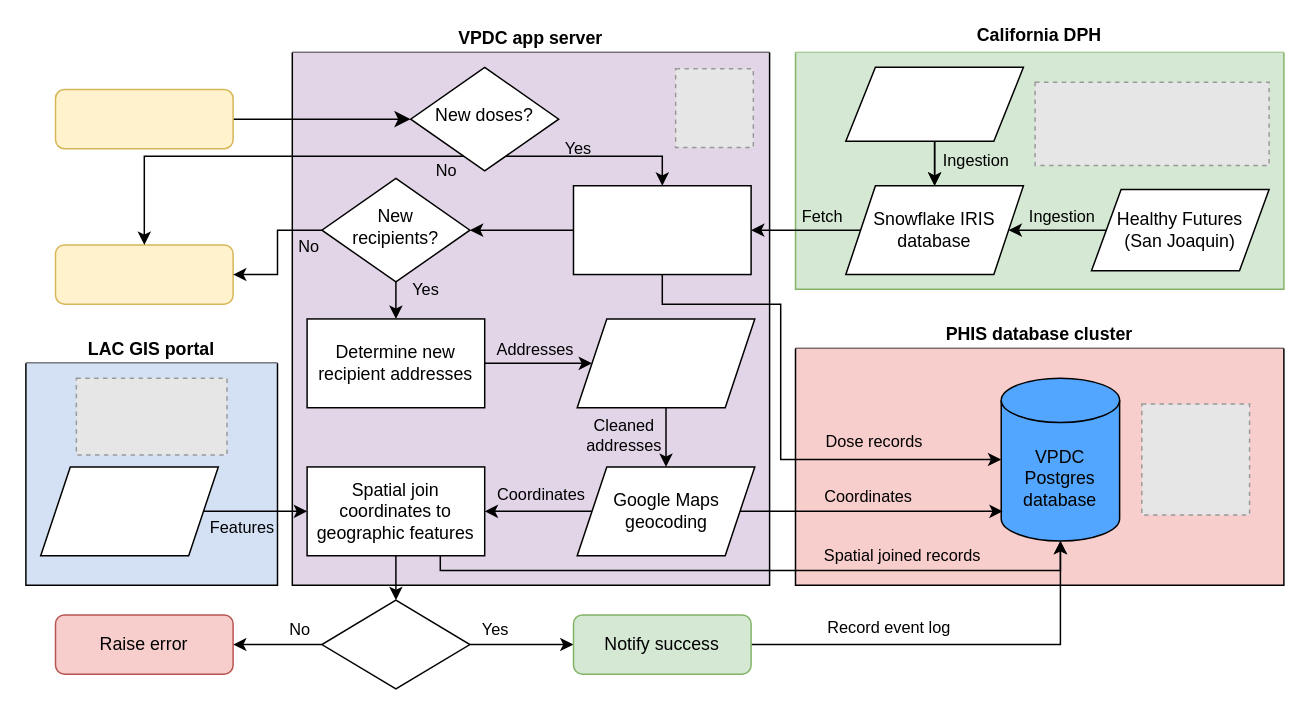
Some shapes in this 1310 by 715 pixel diagram are drawn without their labels. Grey dashed boxes stand in for pictures. Each missing label, with the centre of its shape:
"Address preprocessing library" belongs at pixel 665 362.
"CAIR2" belongs at pixel 933 103.
"Data consistent?" belongs at pixel 395 644.
"Download LAC dose records" belongs at pixel 661 229.
"ETL pipeline start" belongs at pixel 143 118.
"LA County shapefiles" belongs at pixel 128 510.
"Stop ETL pipeline" belongs at pixel 143 273.
